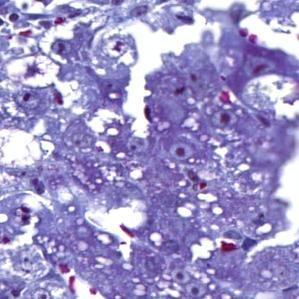ballooning: (4, 54, 63, 91)
